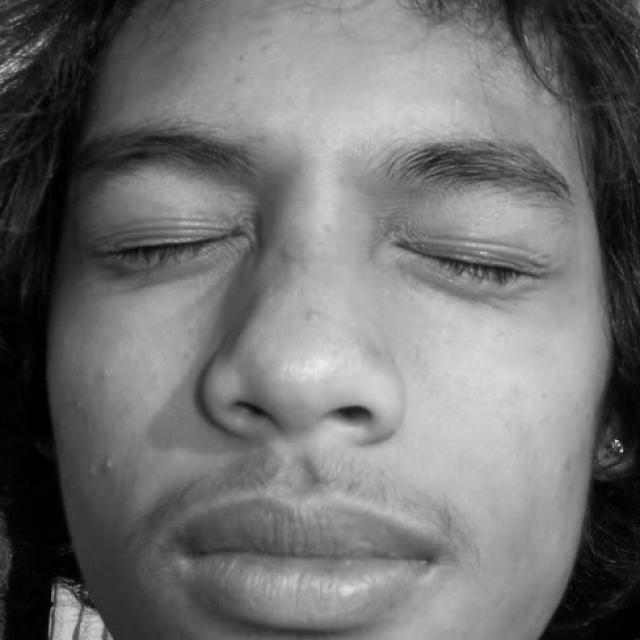real: (38, 4, 614, 640), (90, 158, 552, 315)
